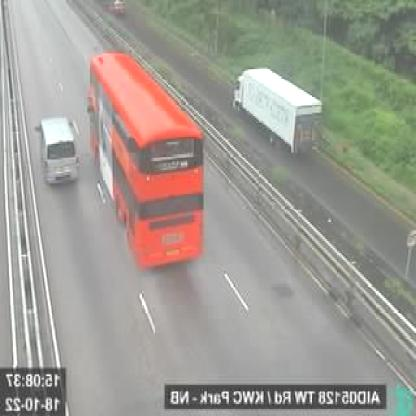Bus: (89, 51, 208, 272)
Car: (34, 116, 82, 187), (105, 0, 128, 18)
Truck: (227, 67, 323, 157)
